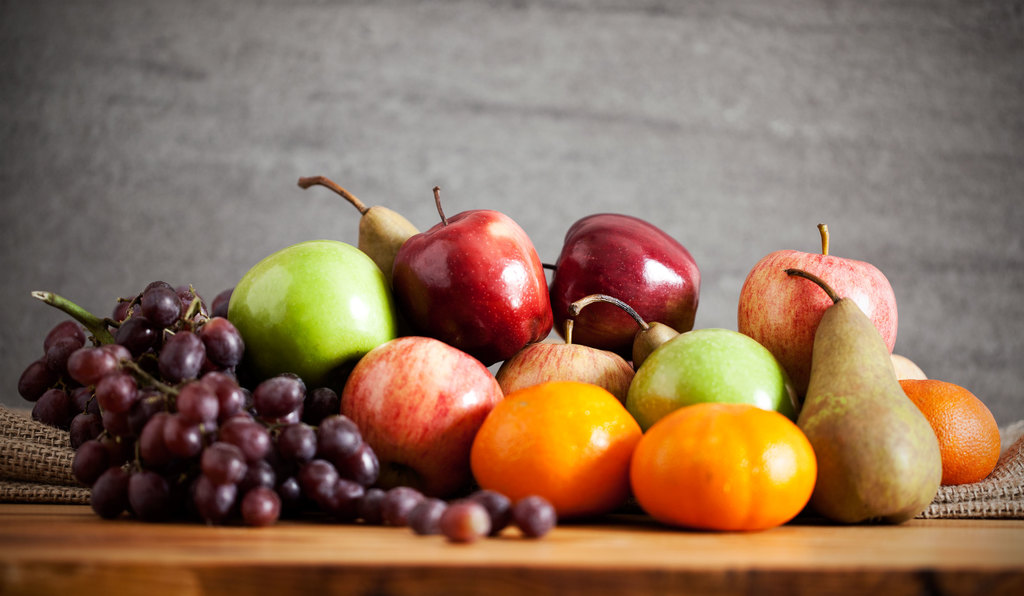Apple: (736, 220, 899, 394), (341, 334, 503, 499), (223, 238, 396, 392), (392, 202, 557, 359), (538, 211, 700, 362), (620, 322, 795, 431), (493, 318, 632, 406)
